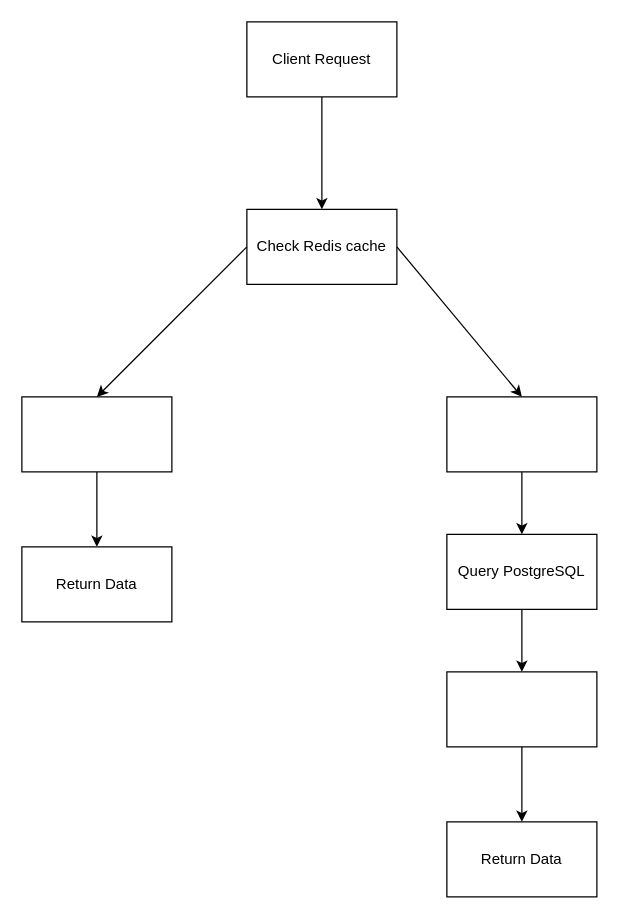
This 619x919 diagram has some shape labels left out. Each missing label, with the centre of its shape:
CACHE HIT (found): the point at 96,434
CACHE MISS (Not Found): the point at 521,434
Save to Redis: the point at 521,709
